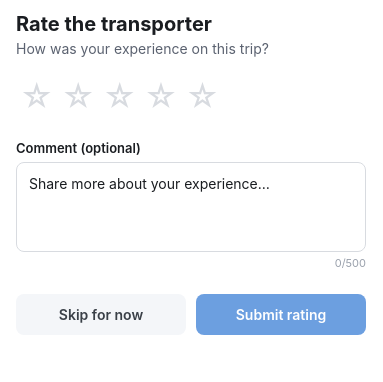
RatingScreen (shipper) › submit failure preserves entered score/comment and shows a retry-capable inline error
Click the button with test id "rating-form-star-input-star-4". click: (161, 96)
box: [140,73,182,120]
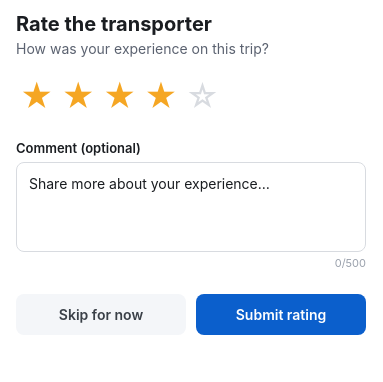
Type "Draft comment" into the text box with test id "rating-form-comment-input". click: (191, 207)
box: [16,162,366,252]
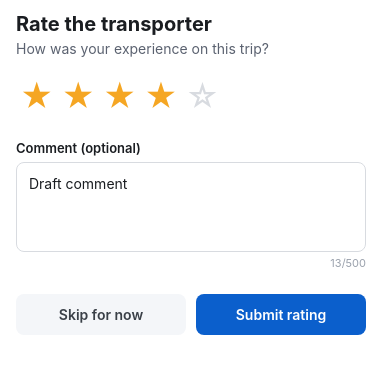
Click the button with test id "rating-form-submit-button". click: (281, 314)
box: [196,294,366,335]
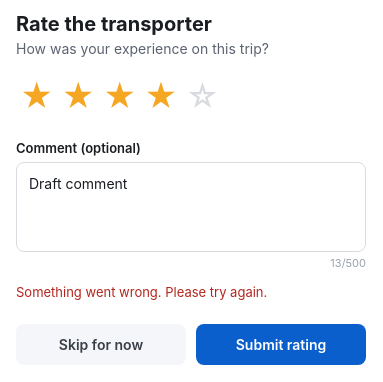
Expected: the text "Something went wrong. Please try again." is shown, [16,284,267,300]
